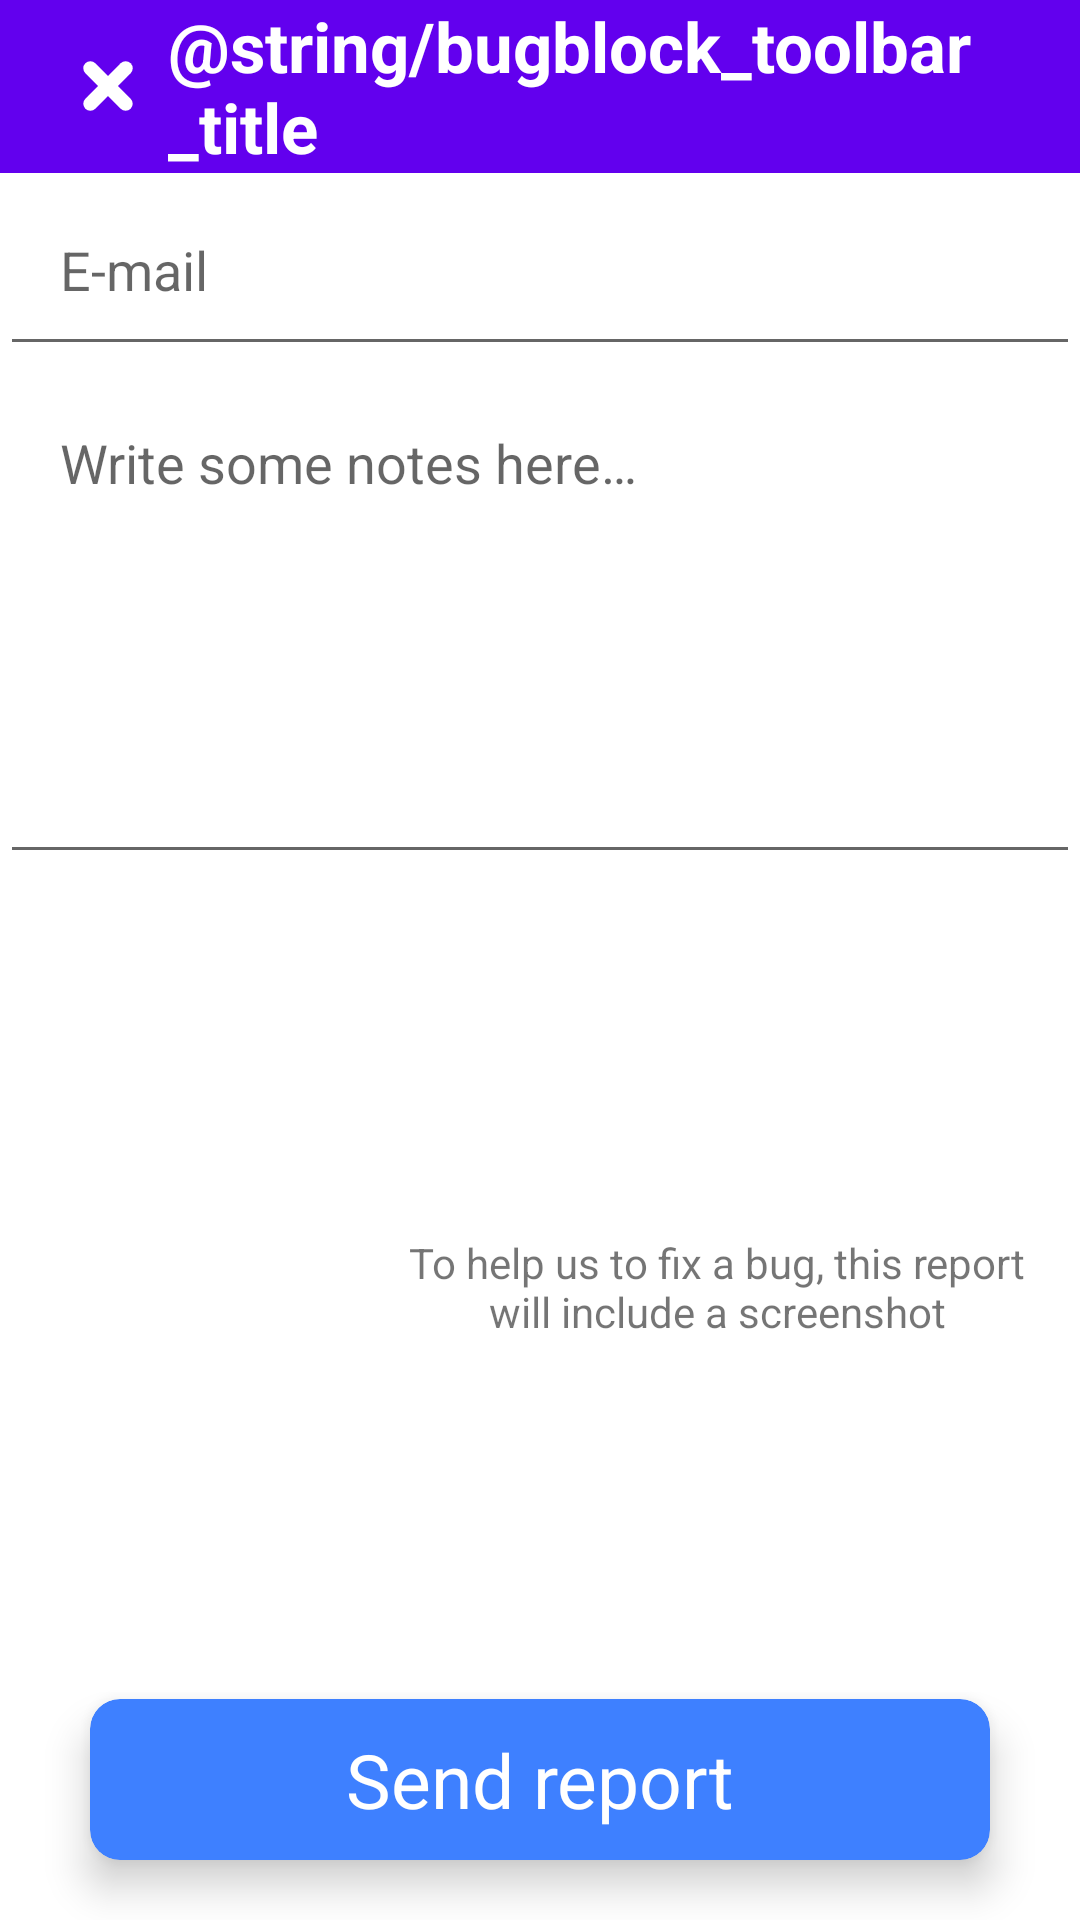

Locate icon controls on the screen. Image size 1080px×1920px, boxes as BBox(x1, y1, x2, y2).
remove: BBox(83, 61, 133, 111)
